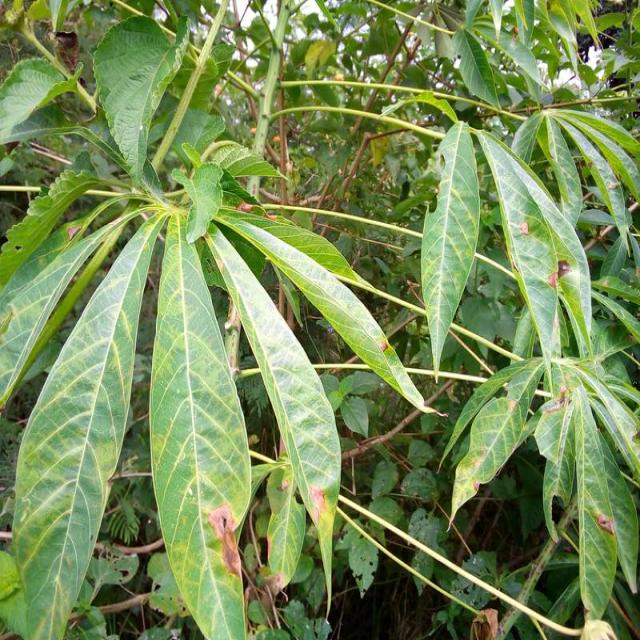cassava leaf: (10, 208, 164, 638), (148, 210, 252, 638), (91, 14, 189, 190), (419, 118, 480, 383)
